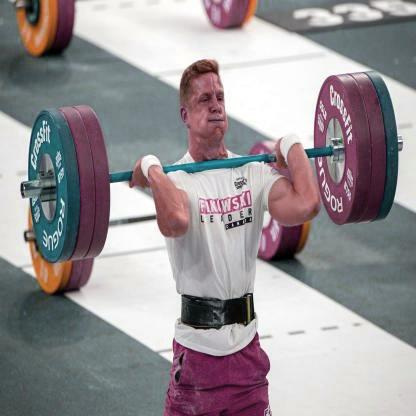barbell: (314, 75, 360, 226), (28, 109, 70, 264)
